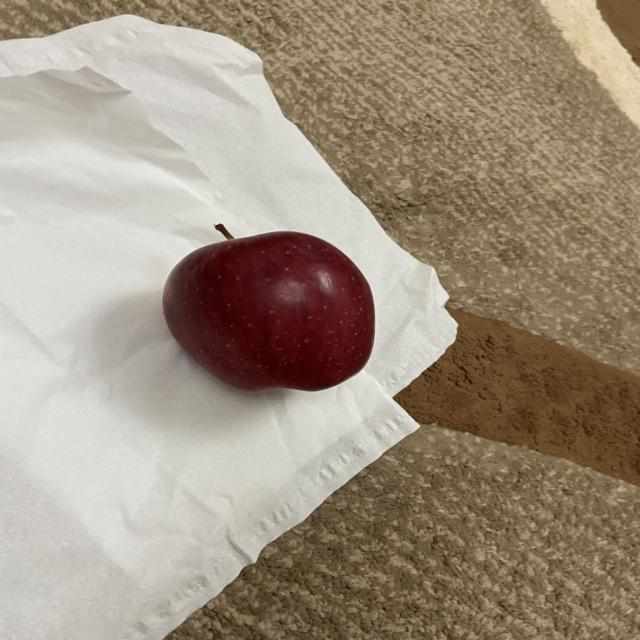apple: (156, 222, 377, 400)
